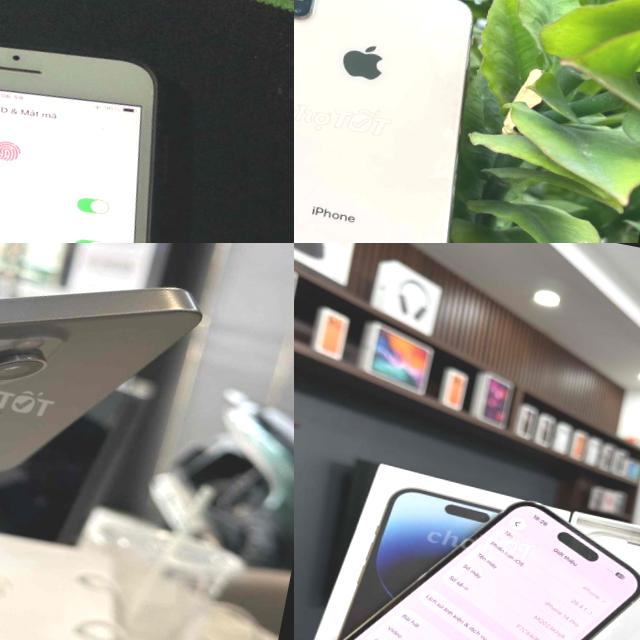gen_14: (294, 464, 640, 640)
gen_15: (0, 243, 210, 567)
gen_7_8: (0, 6, 232, 243)
gen_x_xs: (294, 0, 471, 243)
